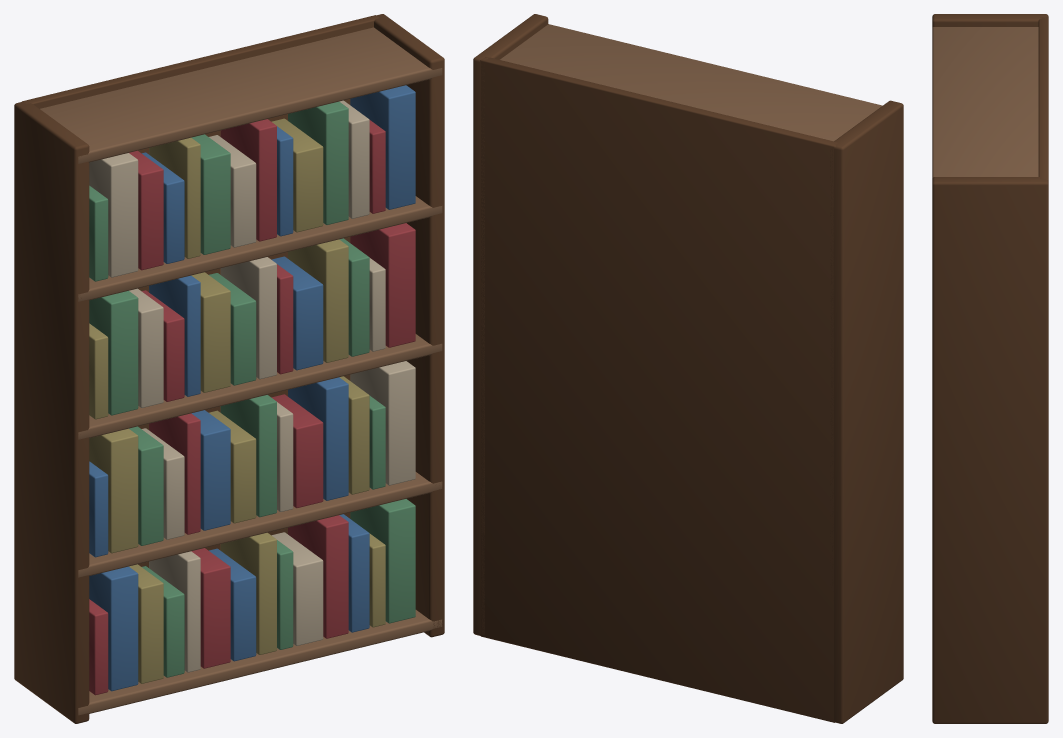
Rendered from shelf.fbx.
3 renders of one model, left to right at view 1: azimuth 30°, elevation 25°; view 2: azimuth 150°, elevation 25°; view 3: azimuth 270°, elevation 25°, orthographic. The views are drawn at different scales.
Visible parts, largest first — view 1: side, board.004, side.001, board.002, board.003, board.001, board, back, book.041, book.055, book.027, book.013 (+52 smaller); view 2: back, side, board.004, side.001; view 3: side.001, board.004, back, side.
Boxes of the visible parts, left/top/right/bottom form: side: left=14, top=102, right=89, bottom=723; board.004: left=40, top=27, right=442, bottom=163; side.001: left=374, top=14, right=444, bottom=637; board.002: left=78, top=334, right=442, bottom=439; board.003: left=78, top=196, right=442, bottom=301; board.001: left=78, top=472, right=442, bottom=577; board: left=78, top=610, right=442, bottom=715; back: left=22, top=15, right=378, bottom=567; book.041: left=350, top=223, right=415, bottom=347; book.055: left=350, top=85, right=415, bottom=209; book.027: left=350, top=361, right=415, bottom=485; book.013: left=350, top=499, right=415, bottom=623; back: left=480, top=57, right=838, bottom=722; side: left=830, top=100, right=903, bottom=723; board.004: left=500, top=24, right=882, bottom=141; side.001: left=473, top=14, right=548, bottom=635; side.001: left=932, top=177, right=1048, bottom=723; board.004: left=932, top=27, right=1038, bottom=178; back: left=1038, top=17, right=1048, bottom=180; side: left=932, top=14, right=1048, bottom=26.
Size of what is drawn, in the model's own units: 121 by 180 by 35.
